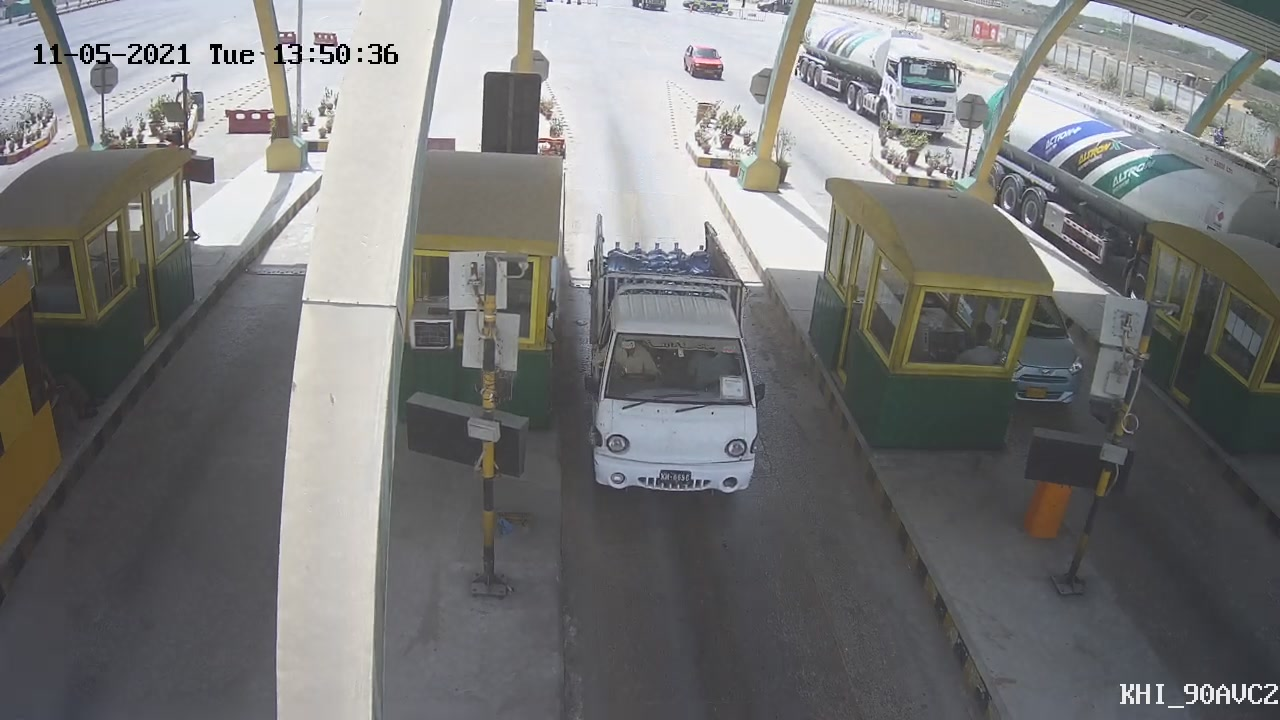F2: (580, 213, 766, 503)
